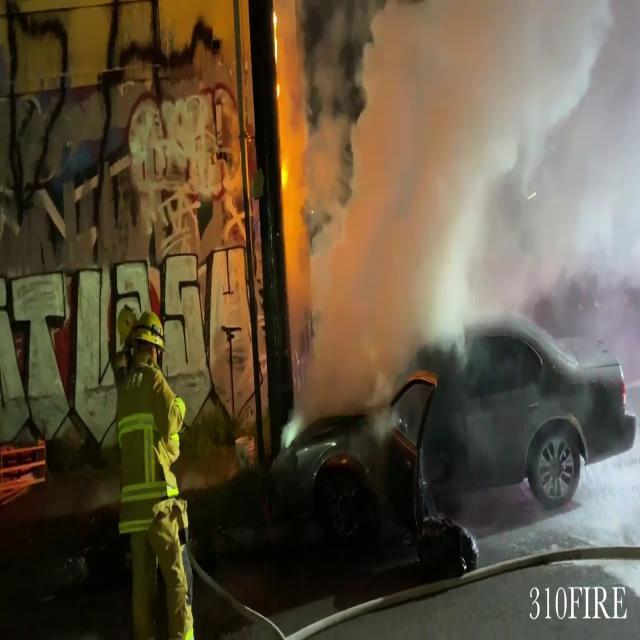Smoke: (292, 1, 640, 417)
